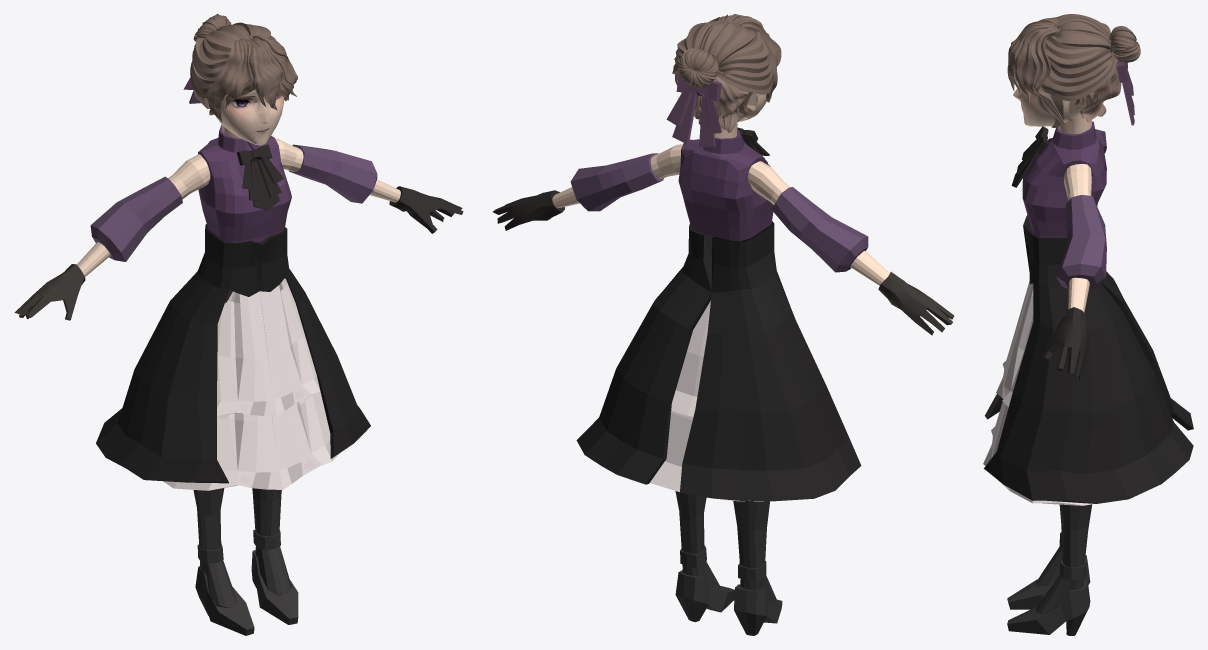
The model's file is BeatriceTexture.fbx.
3 renders of one model, left to right at view 1: azimuth 30°, elevation 25°; view 2: azimuth 150°, elevation 25°; view 3: azimuth 270°, elevation 25°, orthographic. The views are drawn at different scales.
Parts seen in each view (by area): view 1: corset, skirt, skirt.001, Hair, Troso, Cube.002, Cube.001, sleveright, rightHand, sleveleft, Head, bow (+2 smaller); view 2: corset, Hair, Troso, Cube.002, Cube.001, sleveright, rightHand, sleveleft, bowhead, skirt, rightArm, skirt.001 (+2 smaller); view 3: corset, Hair, Troso, Cube.001, sleveleft, rightHand, skirt, Head, leftArm, Cube.002, skirt.001, bow (+1 smaller).
Boxes of the visible parts, box(x1,y1,x2,y2) form: corset: box(96, 224, 370, 483); skirt: box(217, 278, 320, 416); skirt.001: box(163, 391, 339, 490); Hair: box(190, 14, 297, 121); Troso: box(198, 124, 291, 242); Cube.002: box(193, 290, 254, 635); Cube.001: box(251, 278, 298, 624); sleveright: box(90, 176, 182, 261); rightHand: box(14, 186, 463, 320); sleveleft: box(288, 144, 377, 203); Head: box(194, 89, 284, 145); bow: box(236, 144, 283, 209); corset: box(576, 221, 861, 501); Hair: box(672, 14, 781, 132); Troso: box(678, 130, 773, 240); Cube.002: box(733, 501, 782, 635); Cube.001: box(675, 491, 734, 622); sleveright: box(771, 187, 868, 272); rightHand: box(493, 190, 954, 335); sleveleft: box(570, 153, 663, 211); bowhead: box(666, 74, 721, 147); skirt: box(671, 301, 710, 416); rightArm: box(747, 161, 889, 285); skirt.001: box(650, 411, 763, 501); corset: box(984, 215, 1193, 503); Hair: box(1007, 14, 1140, 127); Troso: box(1022, 121, 1106, 237); Cube.001: box(1007, 504, 1092, 635); sleveleft: box(1055, 195, 1106, 289); rightHand: box(1043, 307, 1087, 378); skirt: box(996, 281, 1033, 406); Head: box(1013, 86, 1091, 134); leftArm: box(1064, 164, 1091, 312); Cube.002: box(1007, 532, 1090, 609); skirt.001: box(983, 402, 1092, 505); bow: box(1011, 126, 1048, 187).
Size of the model in its own units: 166 by 208 by 66.25.
Materials: 19 (1 with a texture image).
